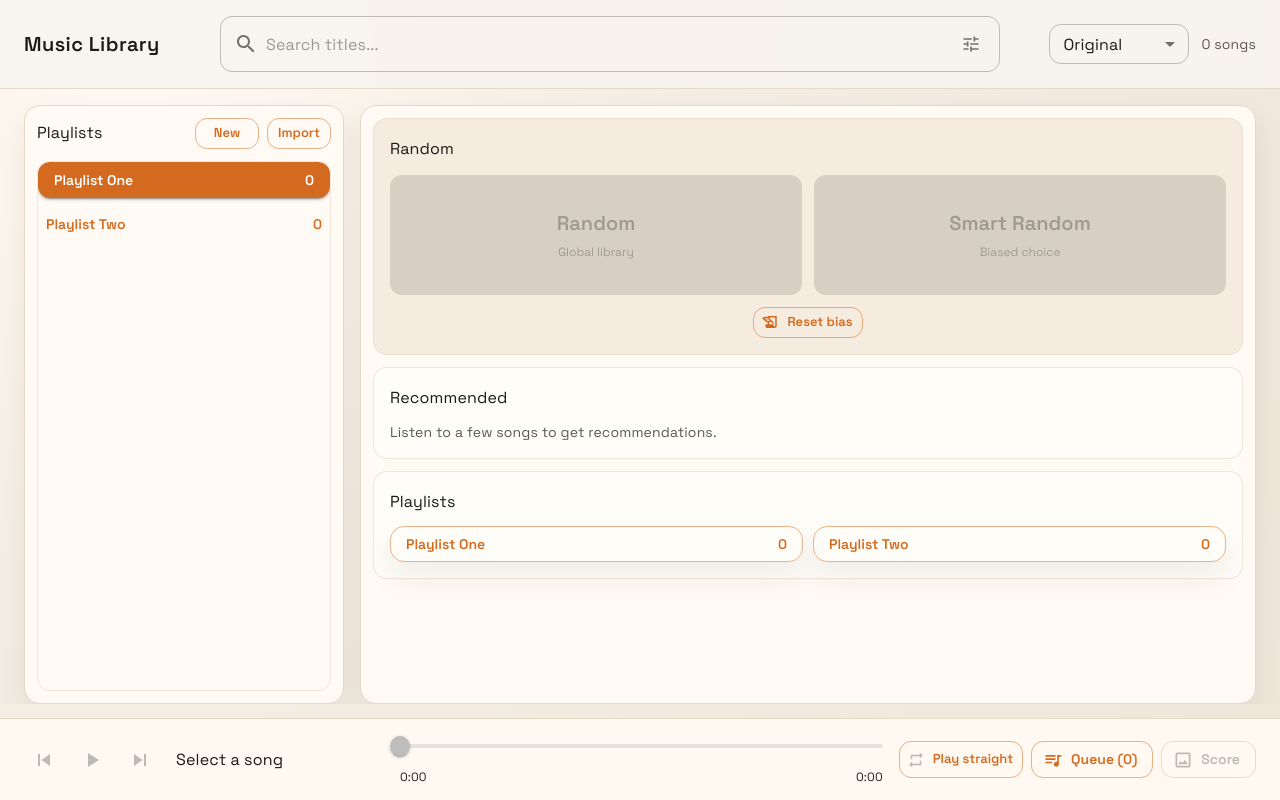
Test: playlist dialogs › uses a dialog to create playlists with validation
Click the button "New". click: (227, 133)
box: x1=195 y1=118 x2=259 y2=149
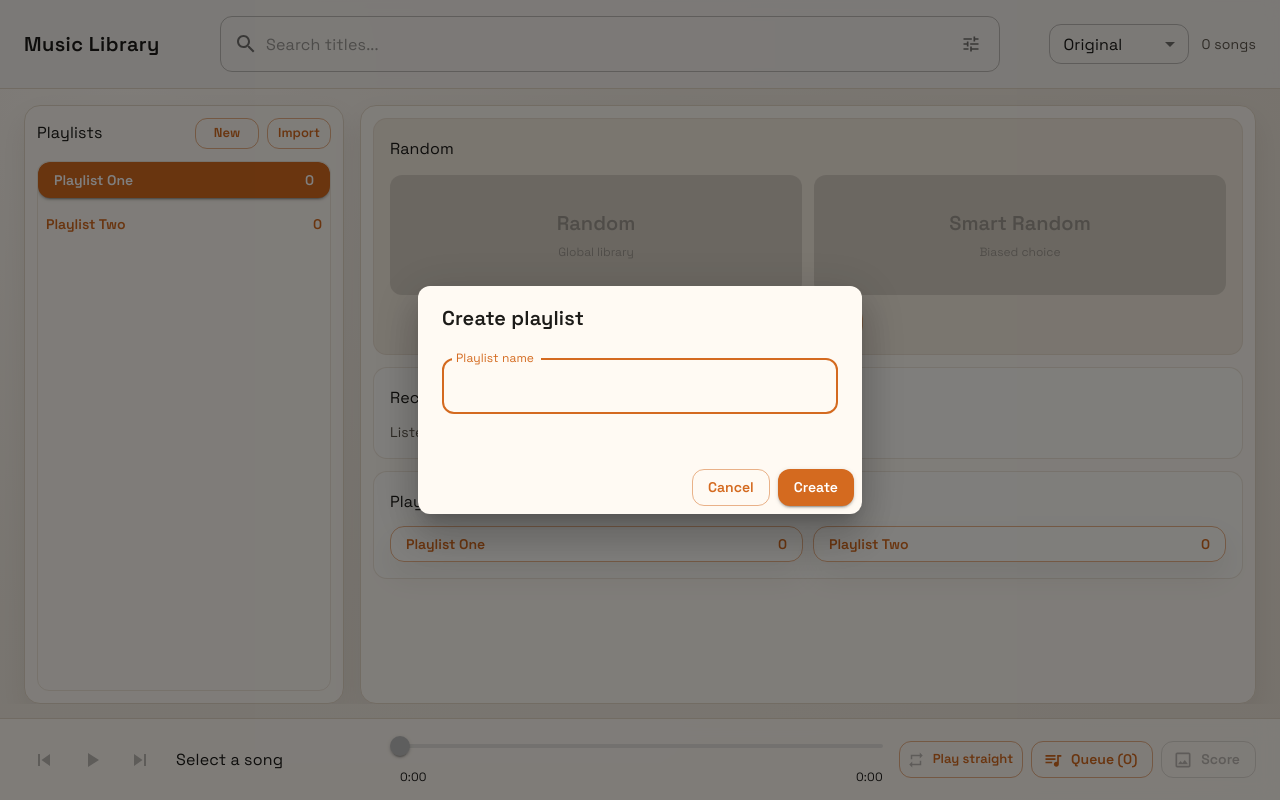
Result: the dialog "Create playlist Playlist name Cancel Create" is shown at x1=418 y1=286 x2=862 y2=514
Click the button "Create". click: (816, 487)
box: x1=778 y1=469 x2=854 y2=506
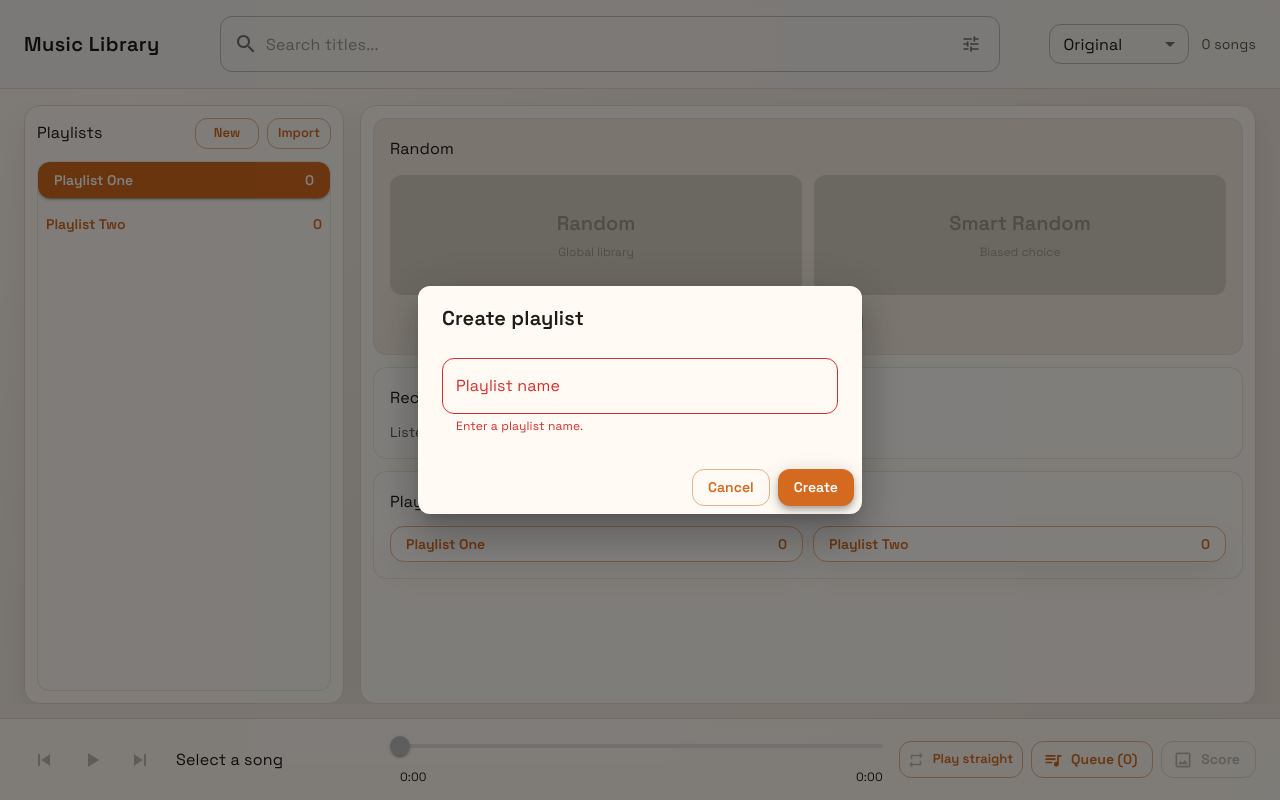
Result: the text "Enter a playlist name." is shown at x1=456 y1=418 x2=583 y2=434
Type "Chill Mix" into the field labelled "Playlist name". click: (640, 386)
box: x1=442 y1=358 x2=838 y2=414
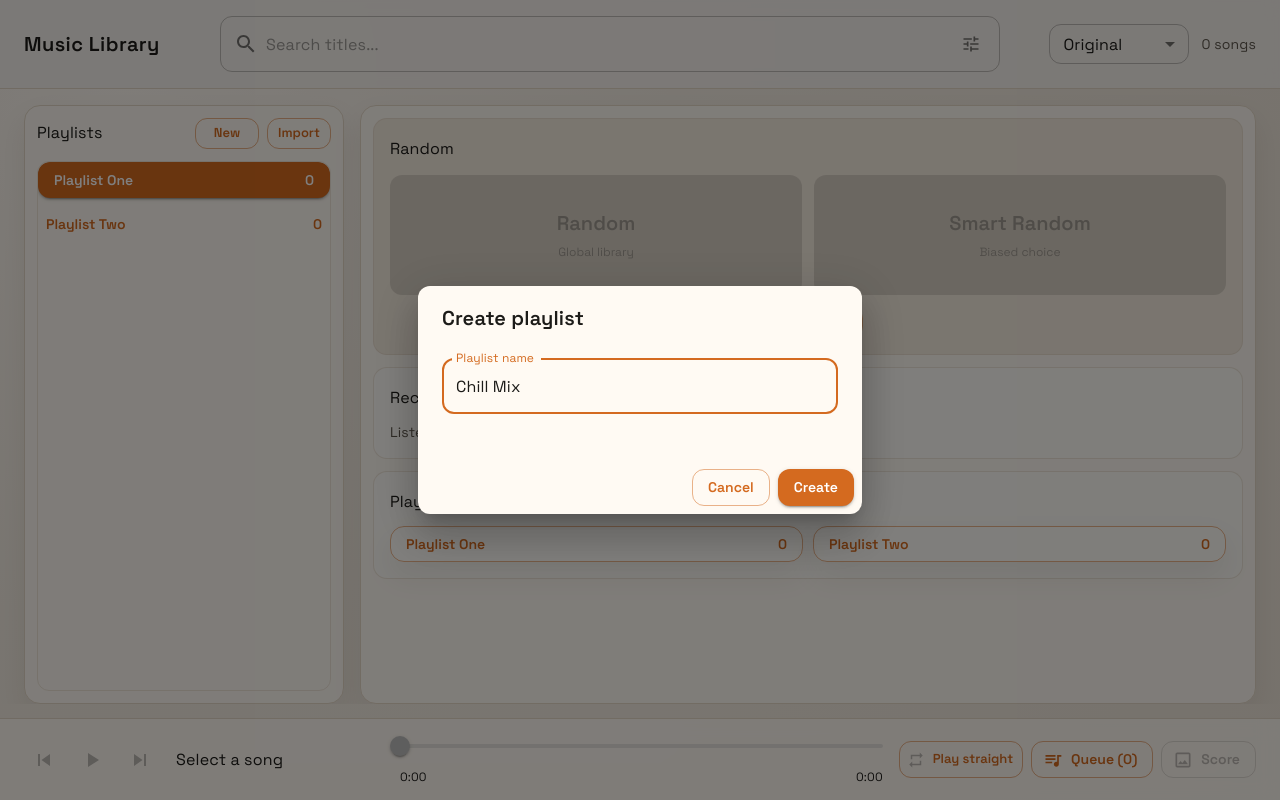
Click the button "Create". click: (816, 487)
box: x1=778 y1=469 x2=854 y2=506
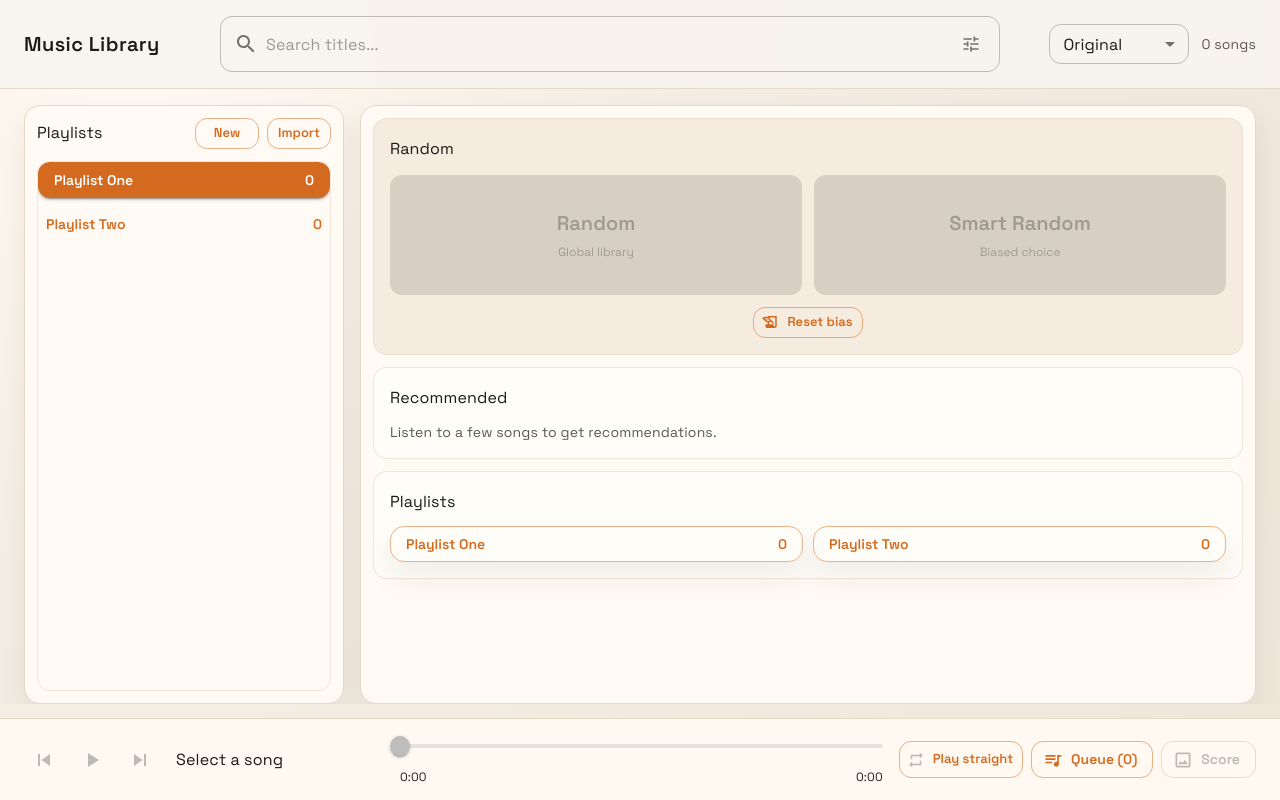
Result: the heading "Create playlist" is gone
